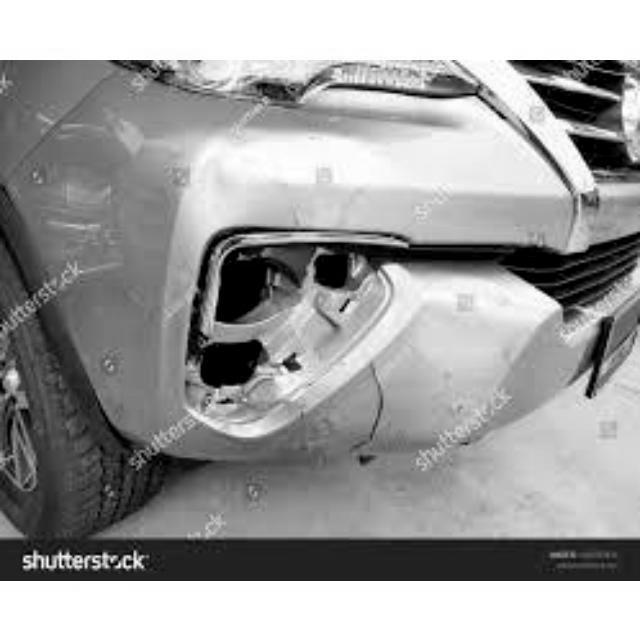front-bumper-dent: (141, 167, 637, 442)
